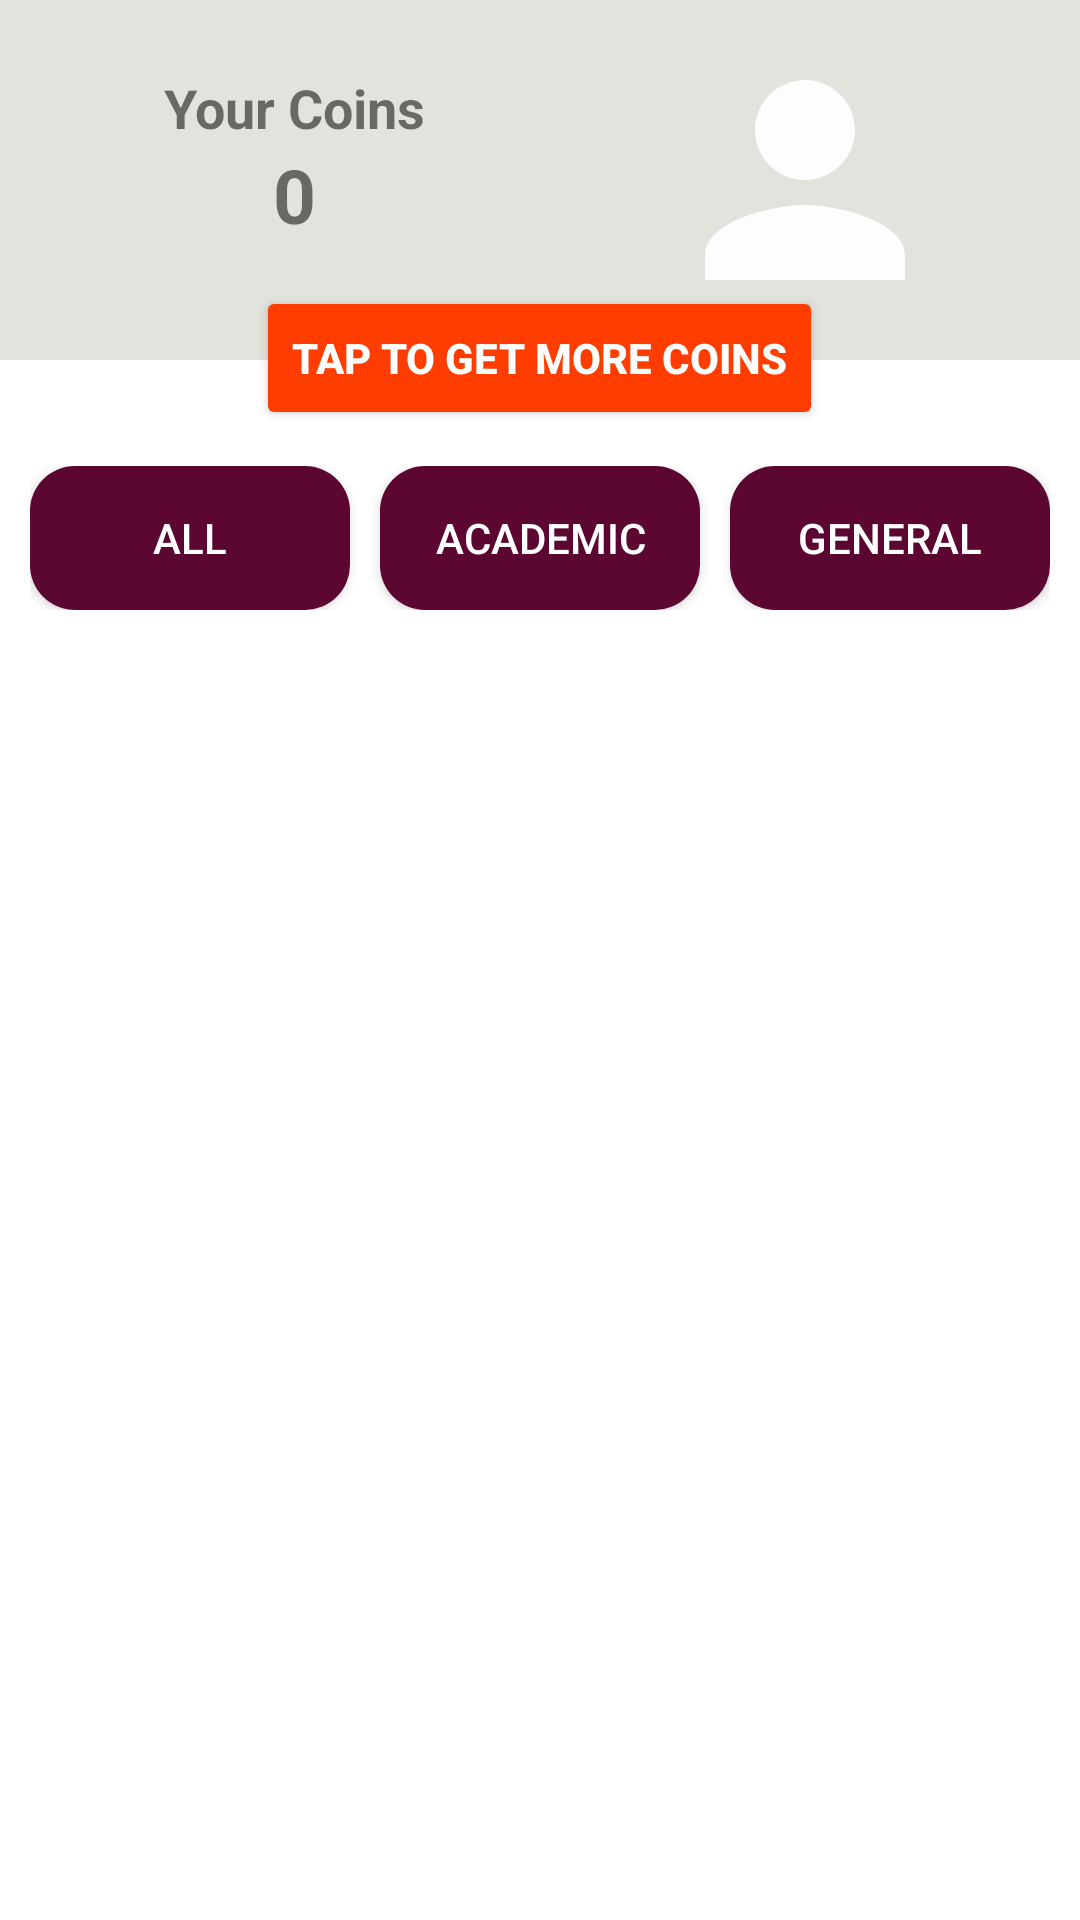

Where to tap for icons on this 1080 × 1920 app screen, as [x,y]:
person: [805,180]
